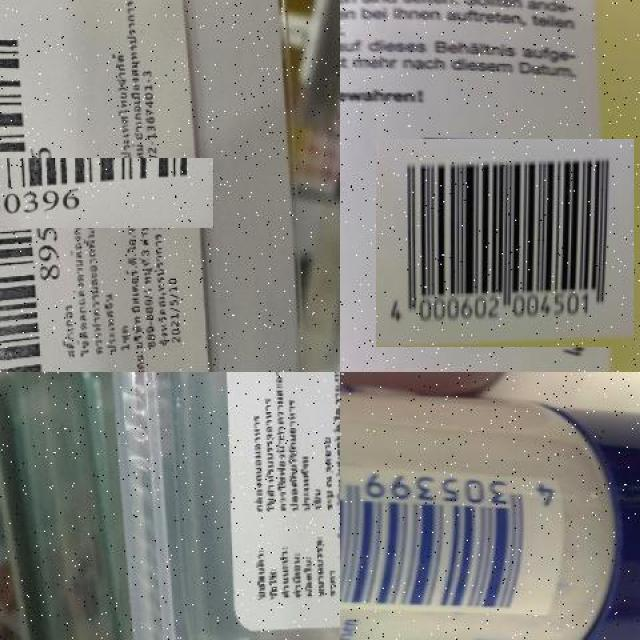Barcode: (389, 126, 622, 359), (340, 454, 571, 614), (0, 86, 142, 300)
